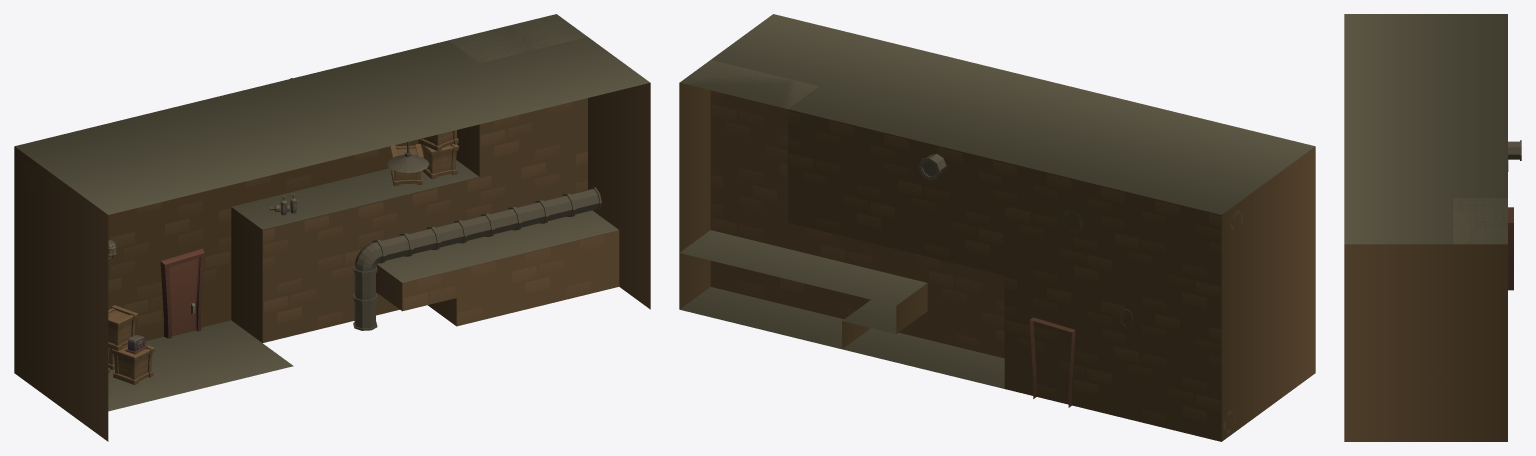
Rendered from Room24_8x20.fbx.
3 views of the same model, side by side, from view 1: azimuth 30°, elevation 25°; view 2: azimuth 150°, elevation 25°; view 3: azimuth 270°, elevation 25° (orthographic). The views are drawn at different scales.
Parts seen in each view (by area): view 1: Room24_8x20; view 2: Room24_8x20; view 3: Room24_8x20.
Boxes of the visible parts, left/top/right/bottom form: Room24_8x20: left=14, top=14, right=650, bottom=441; Room24_8x20: left=679, top=14, right=1315, bottom=441; Room24_8x20: left=1344, top=14, right=1521, bottom=441.
Bounding box in the file's own units: 2000 × 650 × 800.
